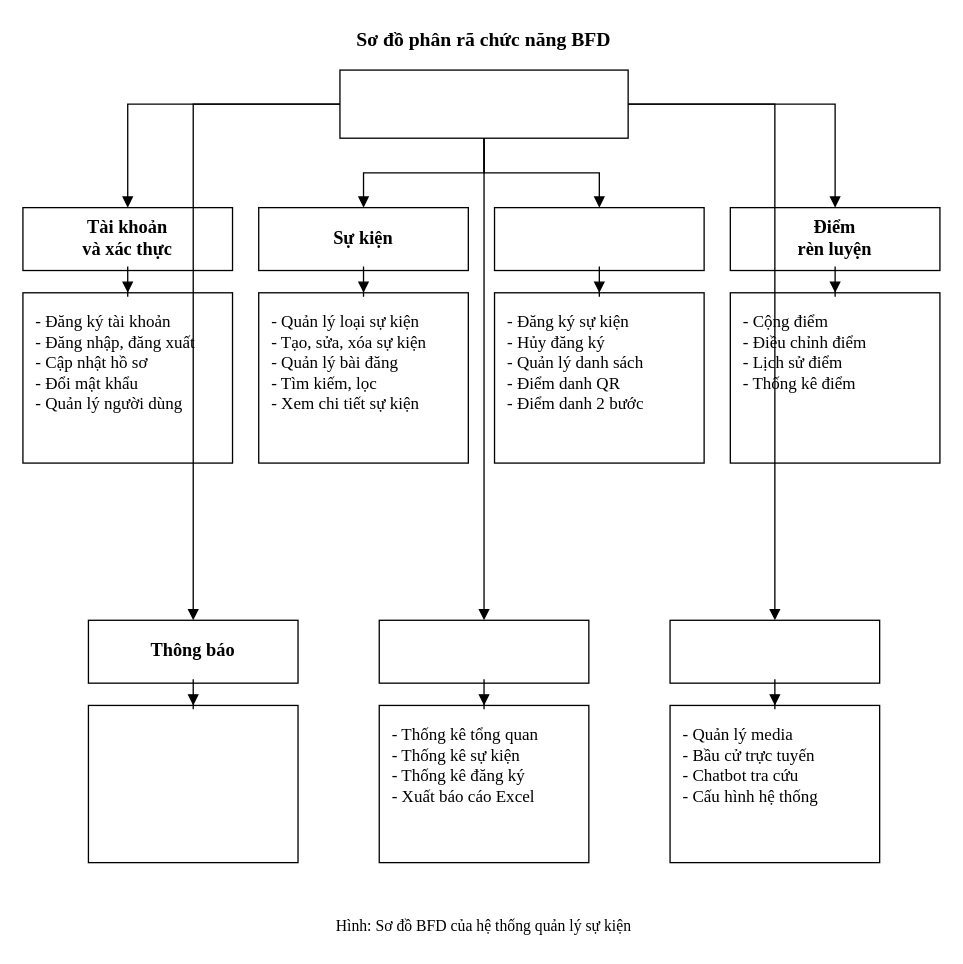
Image size: 963x964. Some labels were removed from this diagram. The centre of each missing label's shape, as x and y in pixels:
"- Gửi thông báo - Xem thông báo - Đánh dấu đã đọc - Xóa thông báo" goes at point (192, 783).
"Báo cáo thống kê" goes at point (483, 651).
"Chức năng mở rộng" goes at point (774, 651).
"Hệ thống quản lý sự kiện" goes at point (483, 103).
"Đăng ký và điểm danh" goes at point (598, 238).
